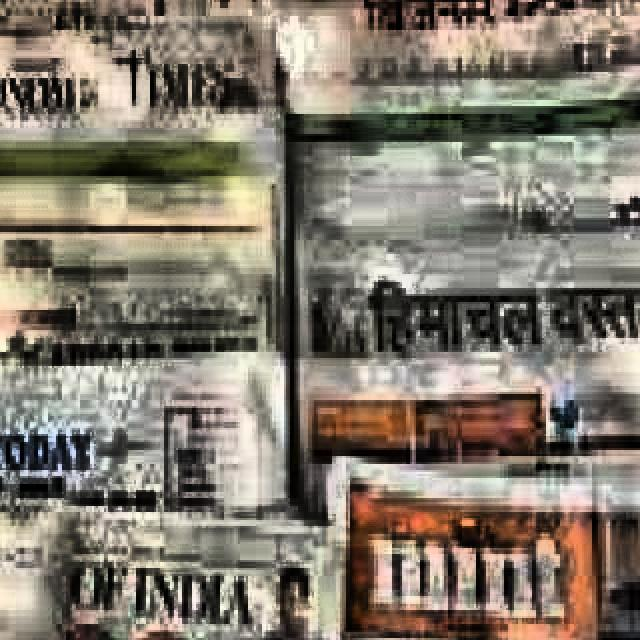paper: (0, 0, 640, 640), (262, 0, 640, 262), (290, 324, 640, 562), (290, 178, 640, 388), (286, 44, 640, 232), (318, 442, 640, 640), (0, 464, 322, 640), (0, 344, 286, 534), (0, 78, 276, 254), (0, 0, 266, 150), (0, 162, 270, 296), (0, 260, 266, 366), (0, 0, 248, 92)
